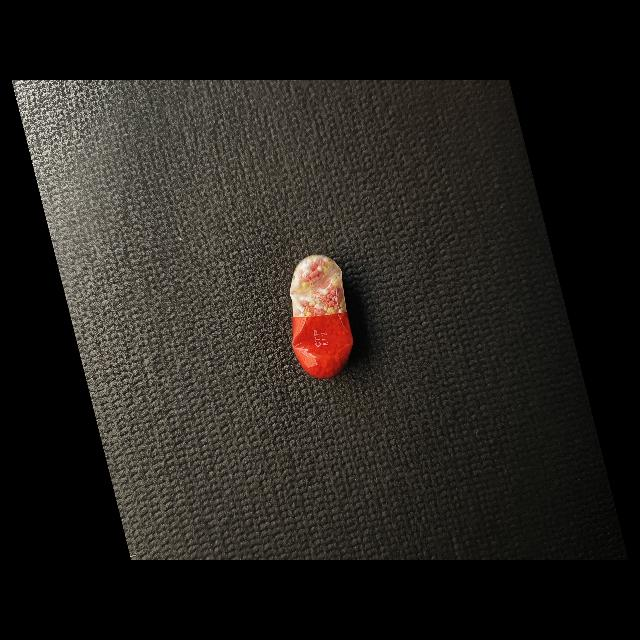Defective Capsule: (290, 254, 354, 379)
